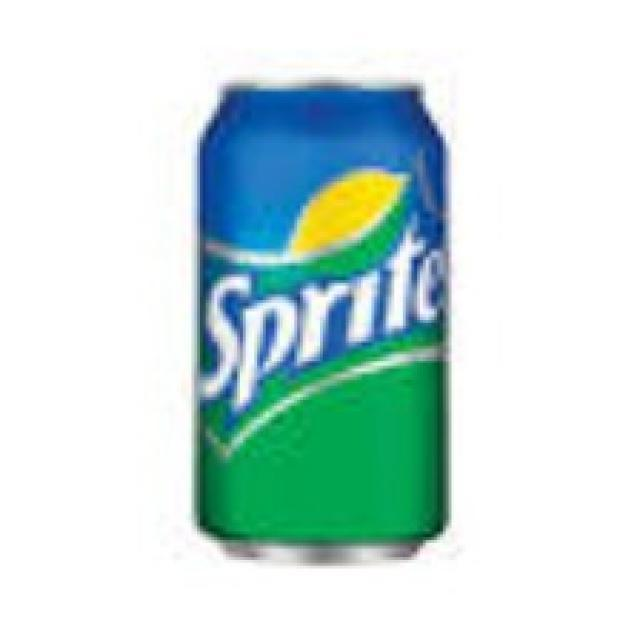metel: (183, 63, 457, 564)
